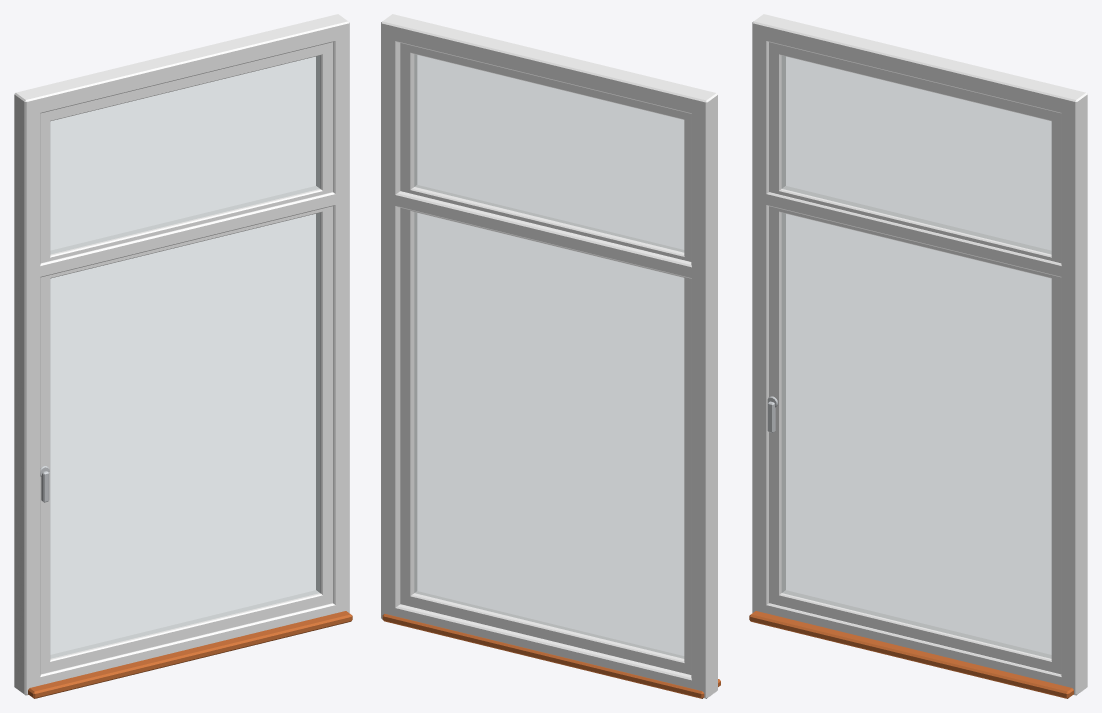
The model's file is window-full-height-1200.glb.
The picture shows the model from 3 angles, left to right: view 1: azimuth 30°, elevation 25°; view 2: azimuth 150°, elevation 25°; view 3: azimuth 330°, elevation 25°; orthographic projection.
Parts seen in each view (by area): view 1: window-full-height-1200.glass, window-full-height-1200.tint, window-full-height-1200.accent; view 2: window-full-height-1200.glass, window-full-height-1200.tint, window-full-height-1200.accent; view 3: window-full-height-1200.glass, window-full-height-1200.tint, window-full-height-1200.accent.
Boxes of the visible parts, x1,y1,x2,y2 form: window-full-height-1200.glass: (50, 56, 319, 658); window-full-height-1200.tint: (14, 14, 349, 695); window-full-height-1200.accent: (28, 611, 352, 698); window-full-height-1200.glass: (414, 54, 683, 658); window-full-height-1200.tint: (381, 14, 717, 698); window-full-height-1200.accent: (382, 613, 720, 698); window-full-height-1200.glass: (782, 56, 1051, 658); window-full-height-1200.tint: (752, 14, 1087, 695); window-full-height-1200.accent: (749, 611, 1073, 698).
Bounding box in the file's own units: 1.2 × 2.1 × 0.12.
